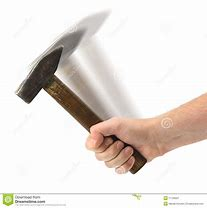hammer: (28, 25, 150, 177), (14, 44, 149, 175), (52, 8, 151, 177)
